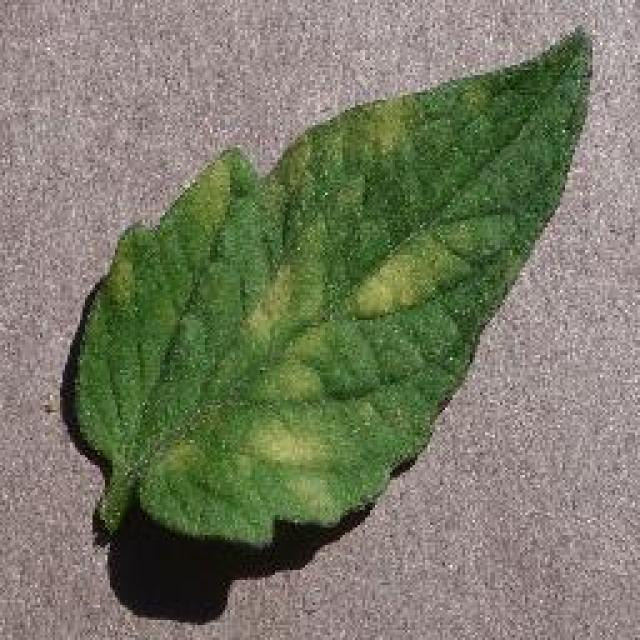leaf mold: (69, 23, 594, 544)
